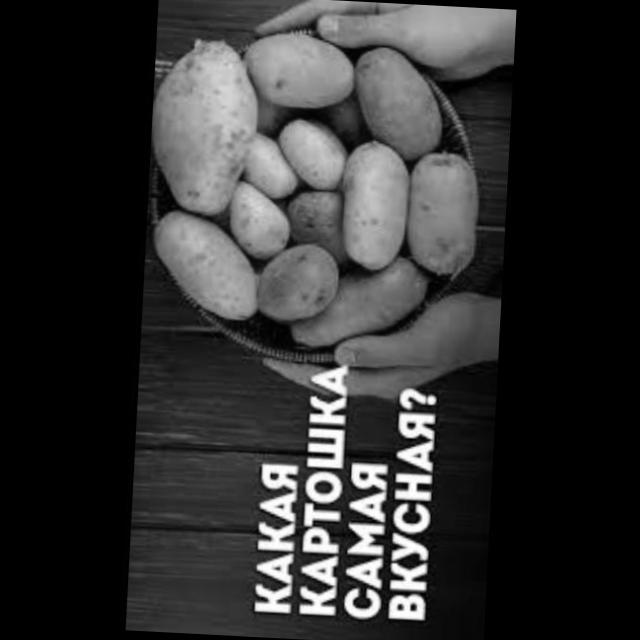khoai tay: (144, 33, 264, 221), (289, 242, 437, 364), (140, 202, 260, 326), (234, 18, 356, 120), (327, 134, 413, 278), (346, 42, 446, 160), (400, 141, 481, 284), (247, 235, 335, 339), (261, 112, 350, 194), (210, 182, 292, 259), (273, 179, 342, 253), (230, 130, 298, 199)
